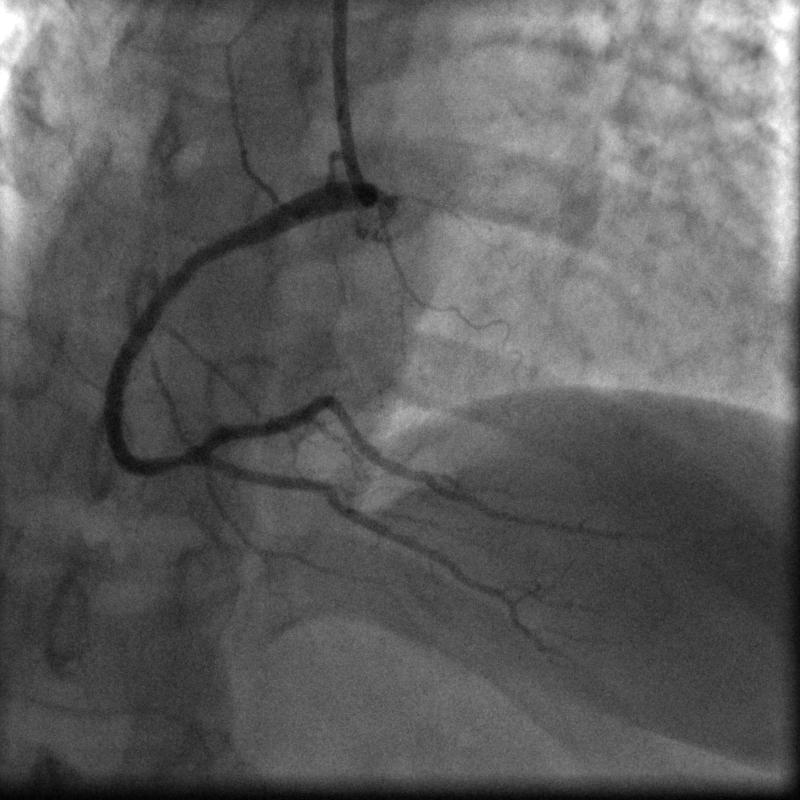Stenosis: (161, 448, 200, 470)
